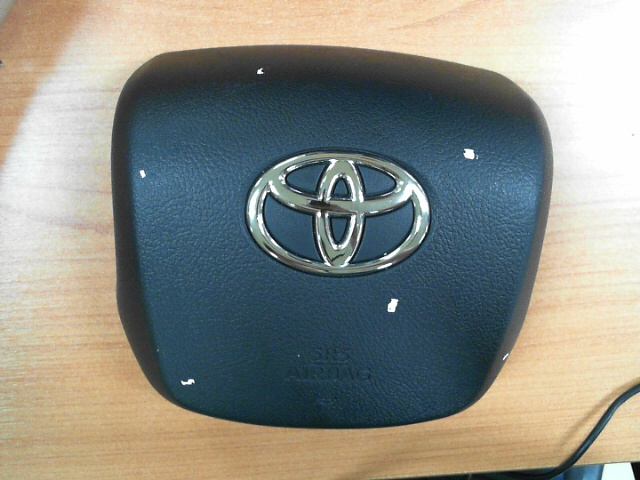Airbag: (463, 148, 479, 160), (387, 298, 399, 313), (180, 378, 196, 386), (256, 68, 265, 75), (139, 170, 146, 178), (502, 353, 508, 360)
